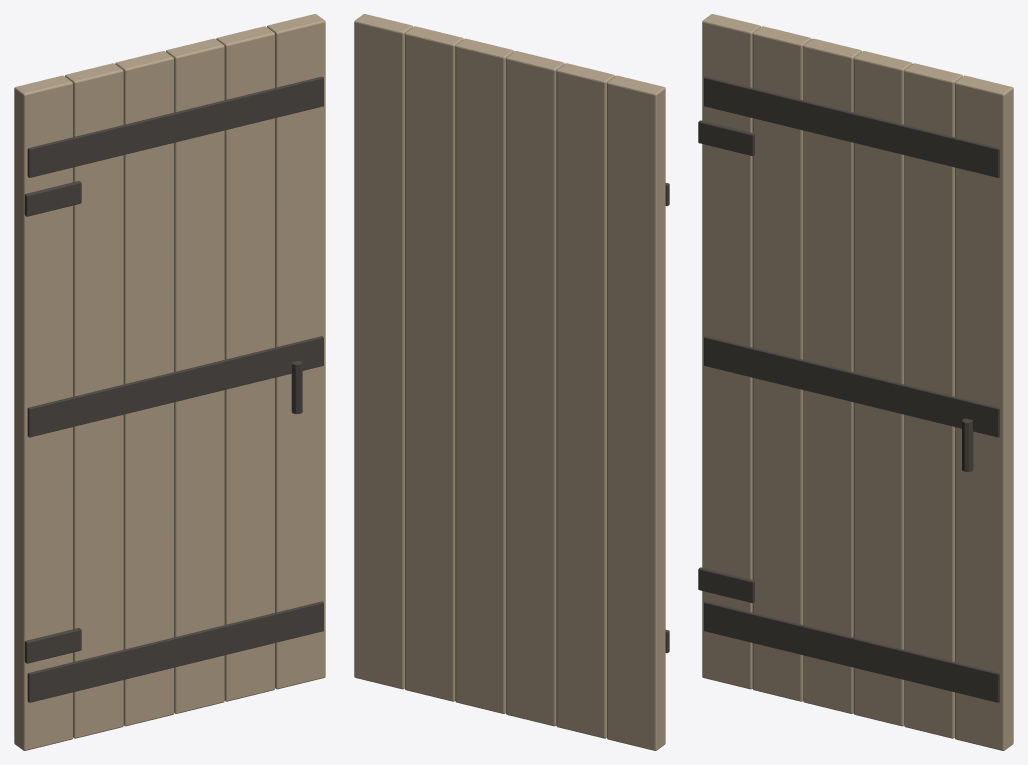
Rendered from door-reinforced-0-lod0.glb.
3 renders of one model, left to right at view 1: azimuth 30°, elevation 25°; view 2: azimuth 150°, elevation 25°; view 3: azimuth 330°, elevation 25°, orthographic.
Parts seen in each view (by area): view 1: Door plank.006, Door plank.009, Door plank.010, Door plank.008, Door plank.011, Door plank.007, Door brace.003, Door brace.005, Door brace.004, Forged hinge.002, Forged hinge.003, Latch.001; view 2: Door plank.006, Door plank.011, Door plank.007, Door plank.010, Door plank.008, Door plank.009; view 3: Door plank.011, Door plank.009, Door plank.007, Door plank.008, Door plank.010, Door plank.006, Door brace.003, Door brace.005, Door brace.004, Forged hinge.002, Forged hinge.003, Latch.001.
Boxes of the visible parts, box(x1,y1,x2,y2) form: Door plank.006: box(14, 75, 72, 750); Door plank.009: box(166, 38, 224, 713); Door plank.010: box(216, 26, 274, 701); Door plank.008: box(115, 51, 173, 726); Door plank.011: box(267, 14, 325, 689); Door plank.007: box(65, 63, 123, 738); Door brace.003: box(27, 601, 323, 702); Door brace.005: box(27, 76, 323, 177); Door brace.004: box(27, 336, 323, 437); Forged hinge.002: box(24, 628, 81, 663); Forged hinge.003: box(24, 181, 81, 216); Latch.001: box(291, 360, 302, 414); Door plank.006: box(607, 75, 665, 750); Door plank.011: box(354, 14, 412, 689); Door plank.007: box(556, 63, 615, 738); Door plank.010: box(405, 26, 463, 701); Door plank.008: box(506, 51, 564, 726); Door plank.009: box(455, 38, 514, 713); Door plank.011: box(955, 75, 1013, 750); Door plank.009: box(853, 51, 912, 726); Door plank.007: box(752, 26, 811, 701); Door plank.008: box(803, 38, 861, 713); Door plank.010: box(904, 63, 962, 738); Door plank.006: box(702, 14, 760, 689); Door brace.003: box(704, 601, 999, 702); Door brace.005: box(704, 76, 999, 177); Door brace.004: box(704, 336, 999, 437); Forged hinge.002: box(698, 567, 754, 602); Forged hinge.003: box(698, 120, 754, 155); Latch.001: box(962, 418, 973, 471).
Bounding box in the file's own units: 1.1 × 2.28 × 0.1055.
